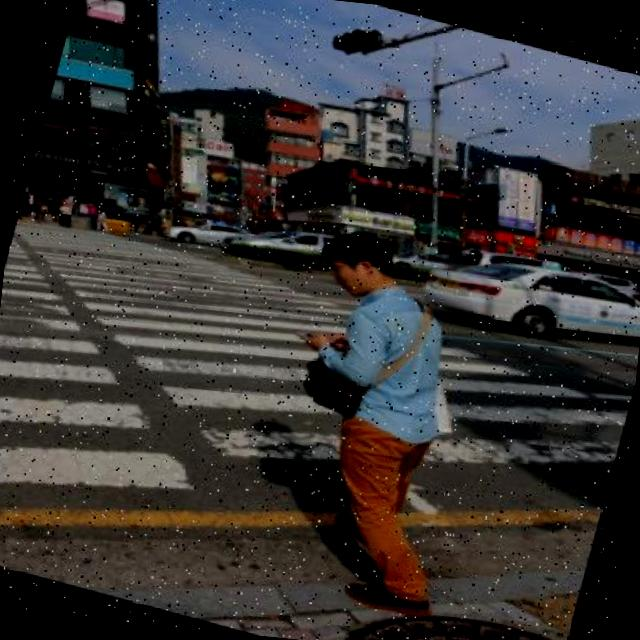Person: (240, 219, 525, 624)
